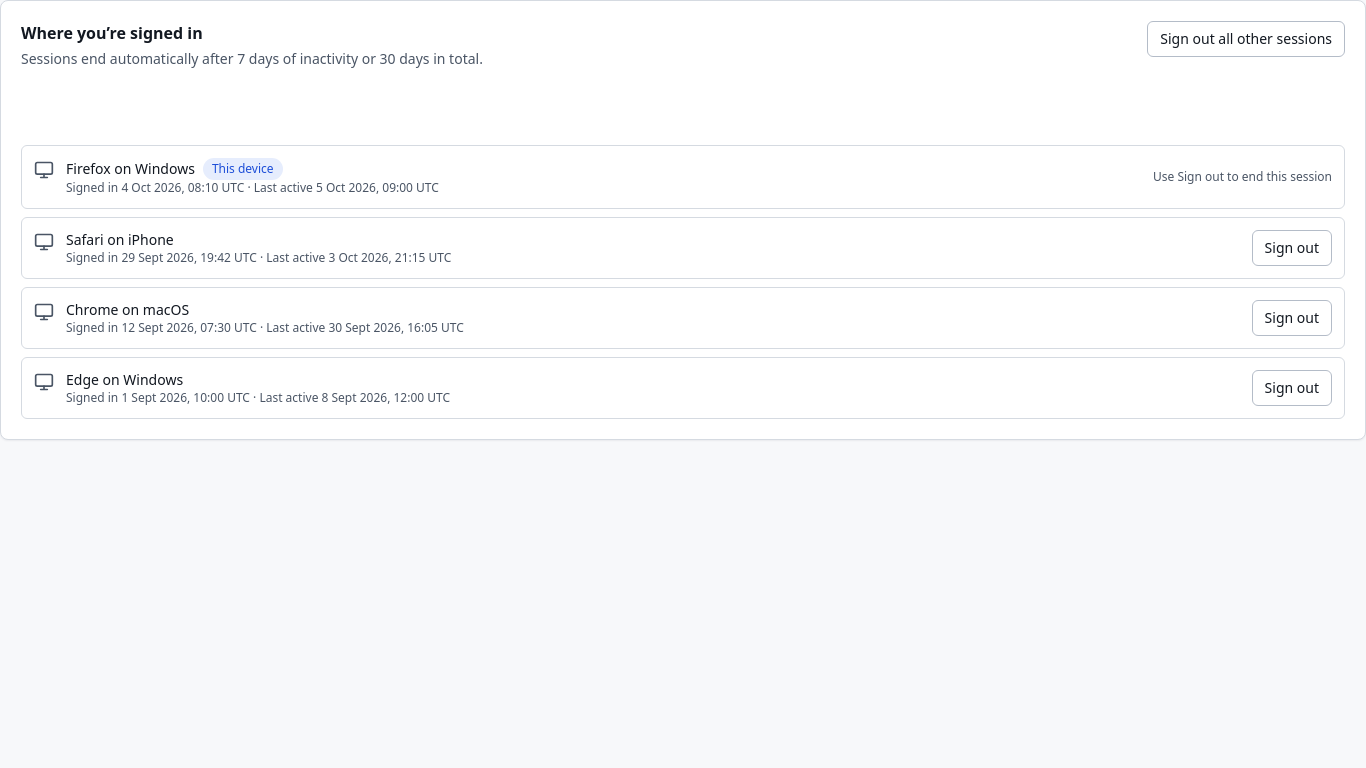
Test: sessions › returns focus to the button that opened the dialog when it closes
Click the button with aria-label "Sign out Safari on iPhone".
click(1292, 248)  # box [1252, 230, 1332, 266]
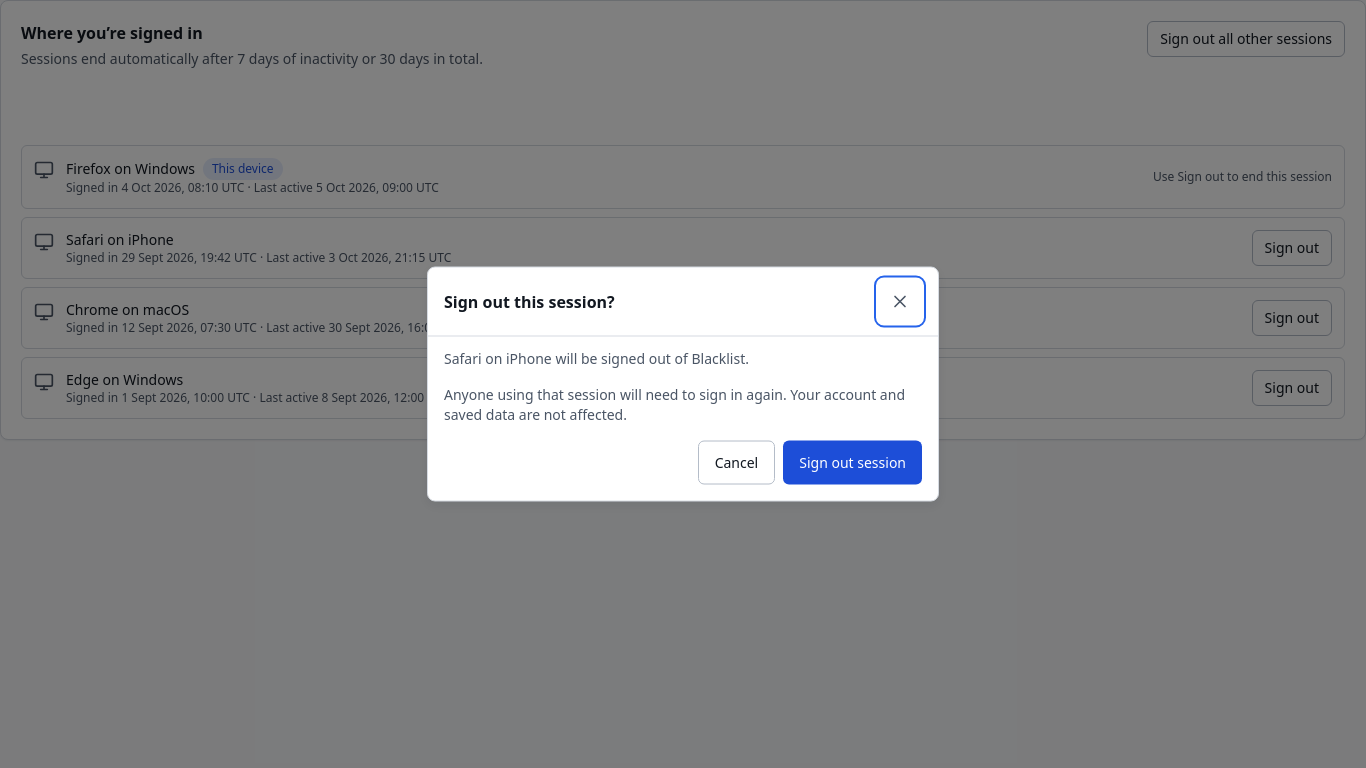
Now the dialog is shown, box [427, 266, 939, 502]
Press Escape
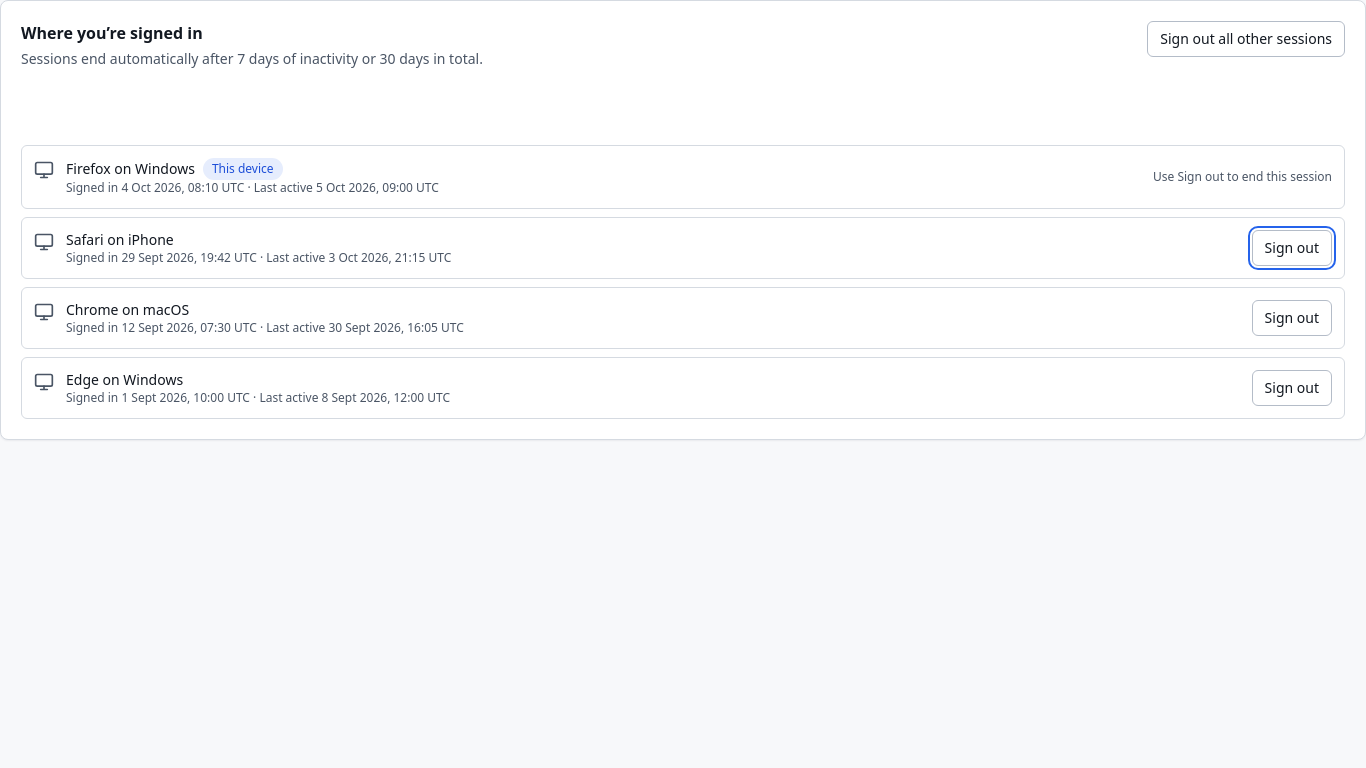
Now the dialog is gone
